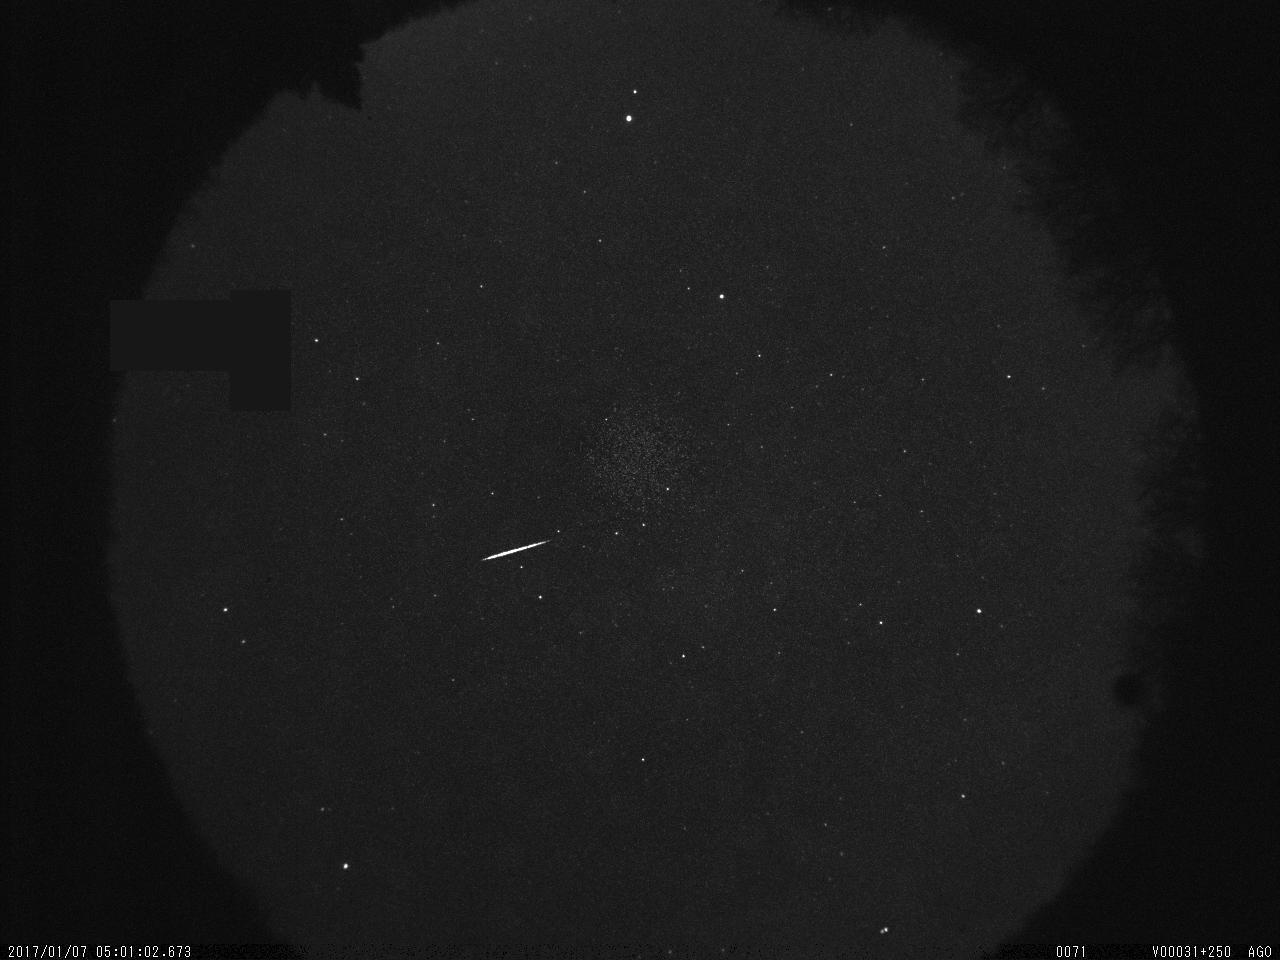meteor: (467, 528, 564, 573)
